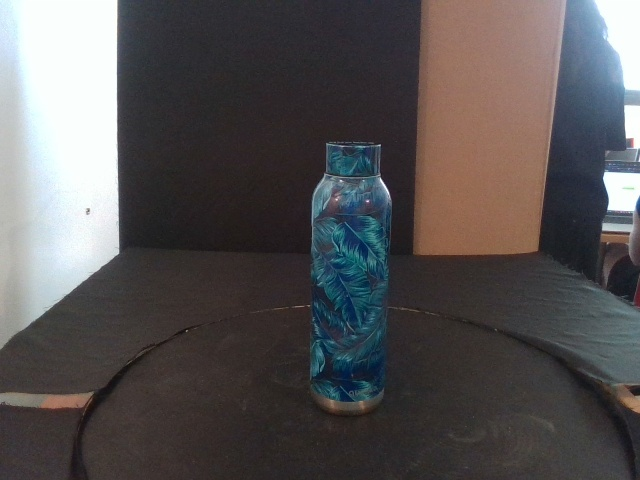bottle: (311, 142, 393, 416)
